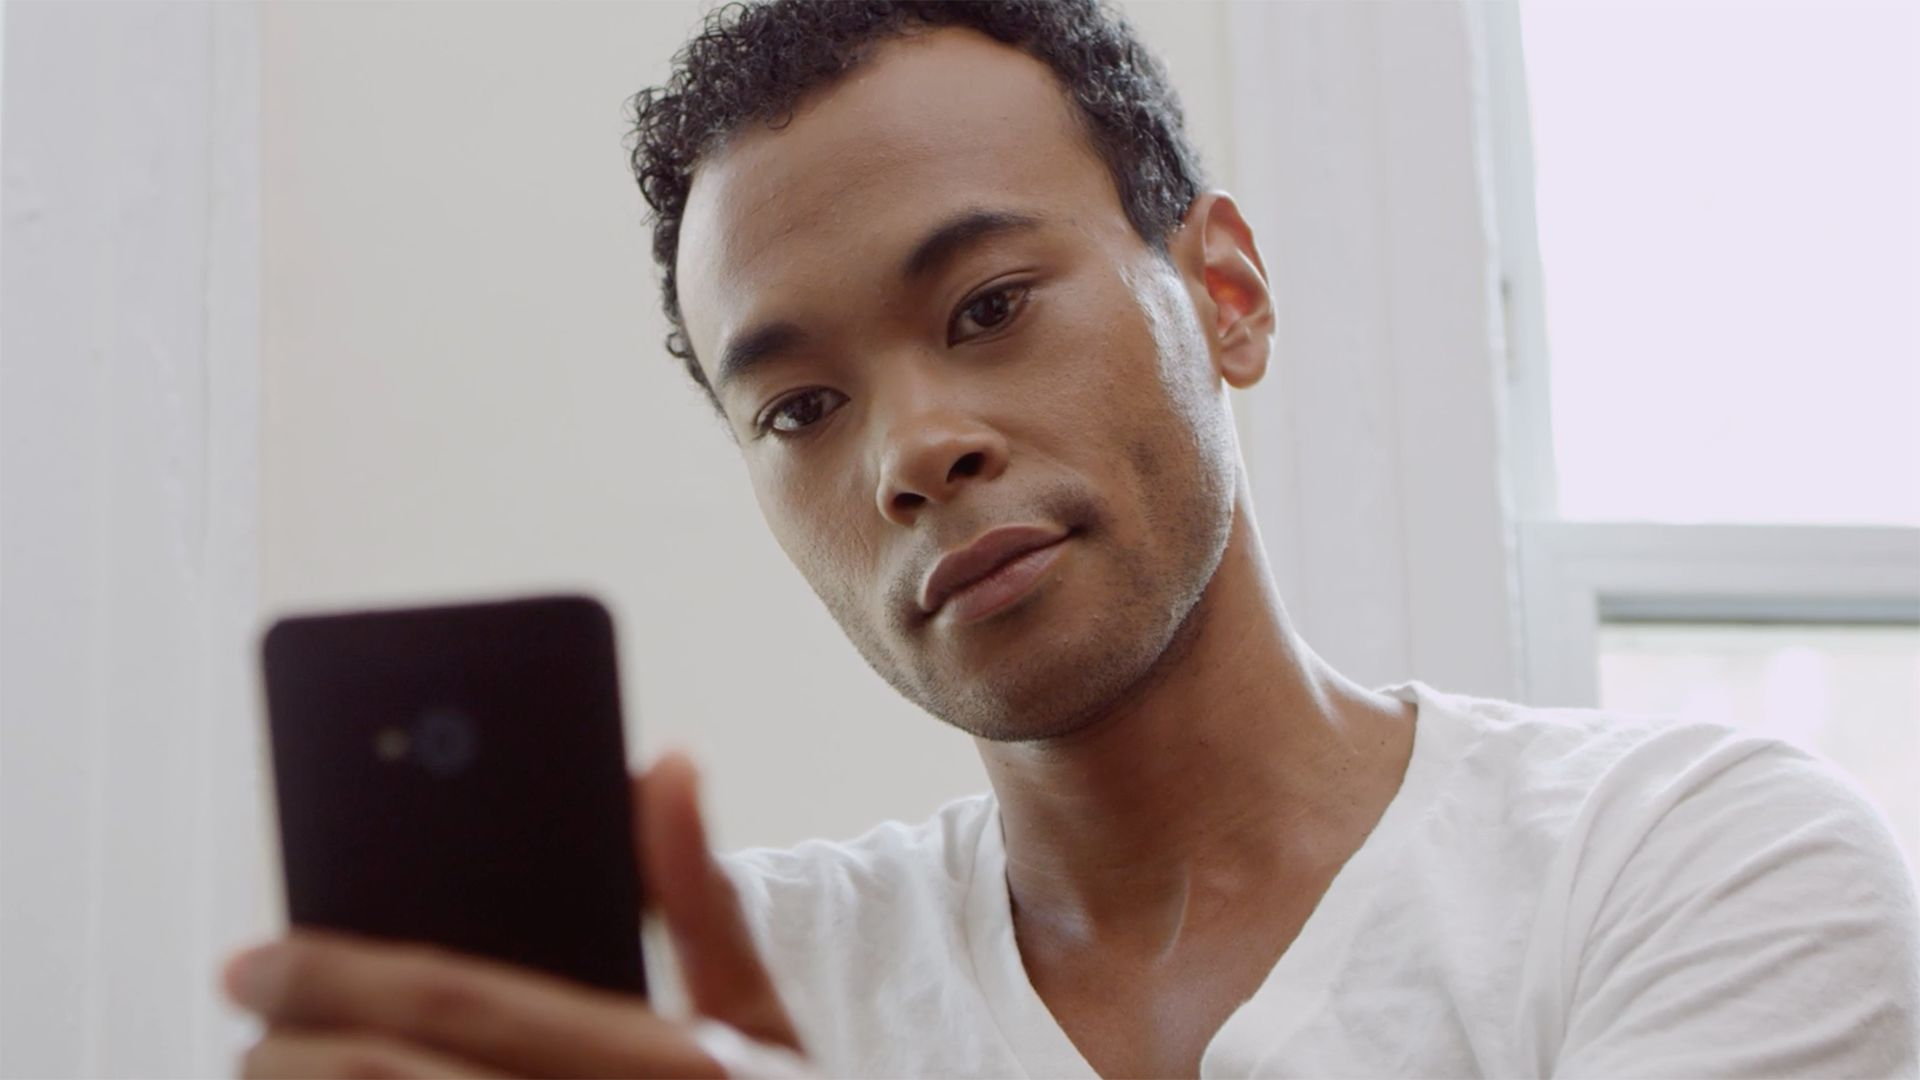person: (558, 3, 1877, 1080)
